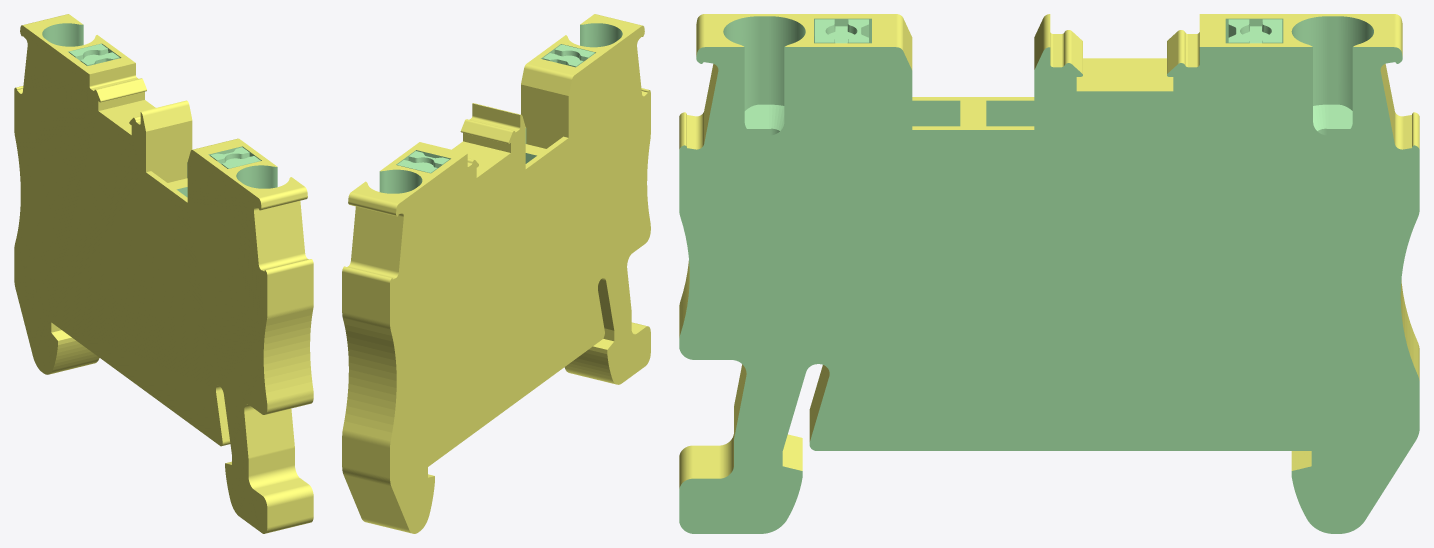
Rendered from terminal-pe.glb.
3 views of the same model, side by side, from view 1: azimuth 30°, elevation 25°; view 2: azimuth 150°, elevation 25°; view 3: azimuth 270°, elevation 25° (orthographic). The views are drawn at different scales.
Parts seen in each view (by area): view 1: Node3, Node1; view 2: Node3, Node1; view 3: Node1, Node3.
Boxes of the visible parts, bbox=[...] form: Node3: bbox=[14, 14, 313, 533]; Node1: bbox=[42, 23, 277, 197]; Node3: bbox=[342, 14, 650, 533]; Node1: bbox=[379, 23, 622, 193]; Node1: bbox=[679, 16, 1419, 533]; Node3: bbox=[679, 14, 1419, 488].
Size of the model in its own units: 5.15 by 35.25 by 48.6.
